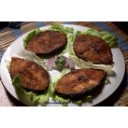seerfish: (57, 67, 106, 100), (9, 57, 50, 96), (73, 33, 113, 64), (21, 29, 66, 56)
